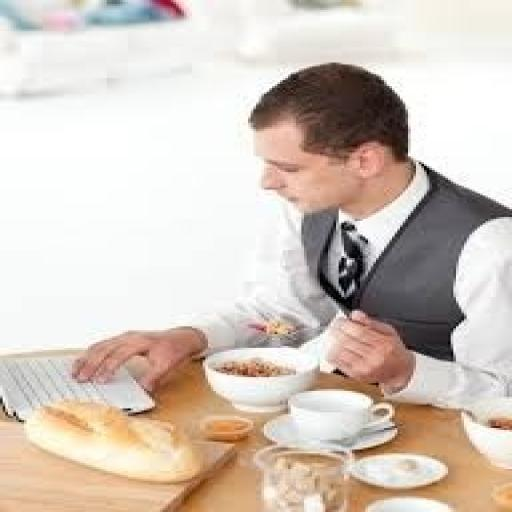eating: (67, 59, 509, 412)
